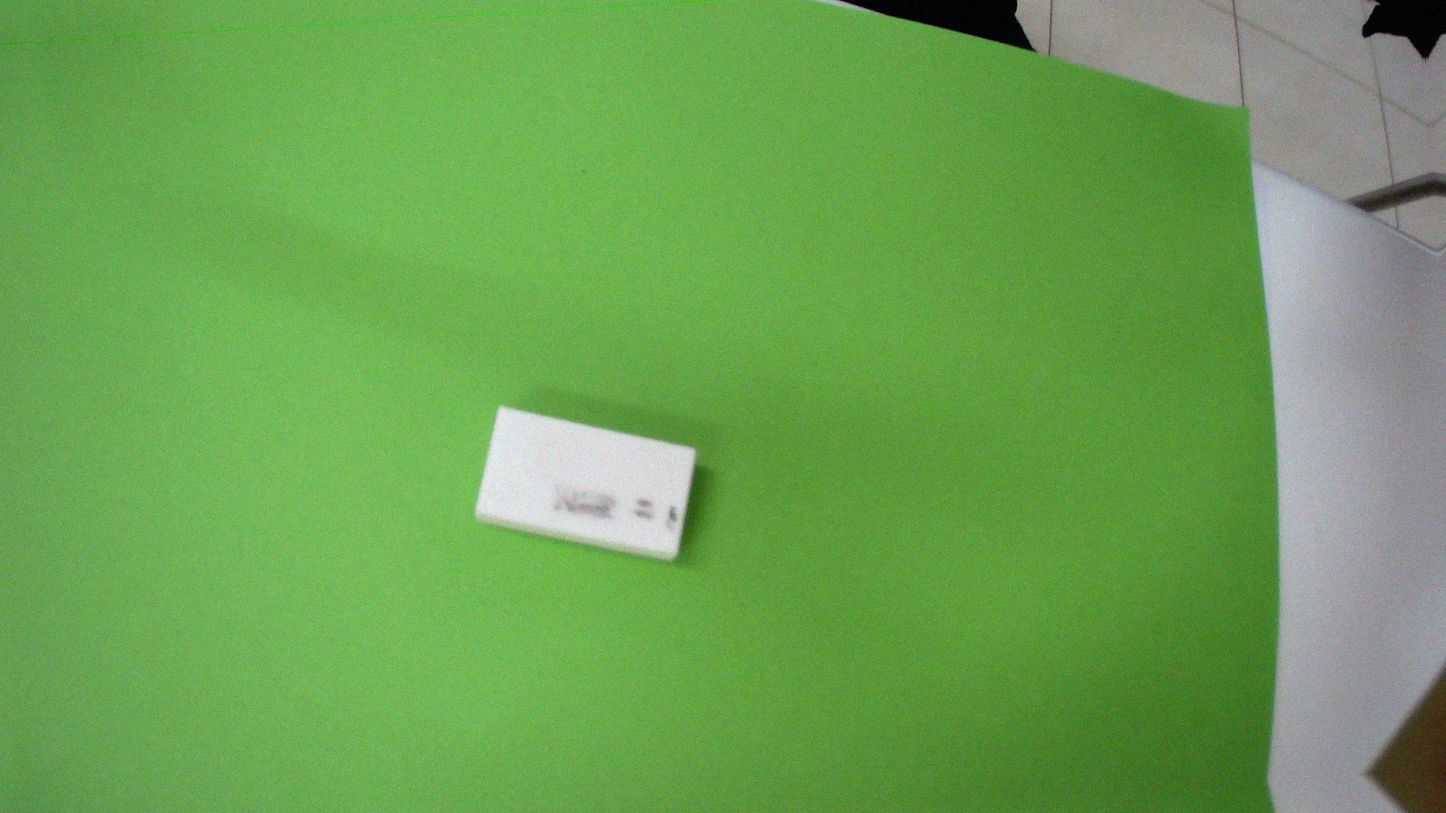gom: (468, 393, 715, 576)
